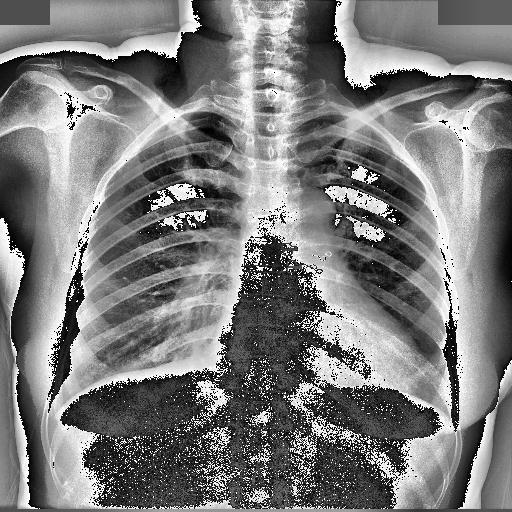0- Aortic enlargement: (282, 186, 337, 228)
3- Cardiomegaly: (192, 316, 432, 394), (206, 319, 432, 393), (210, 328, 436, 396)
